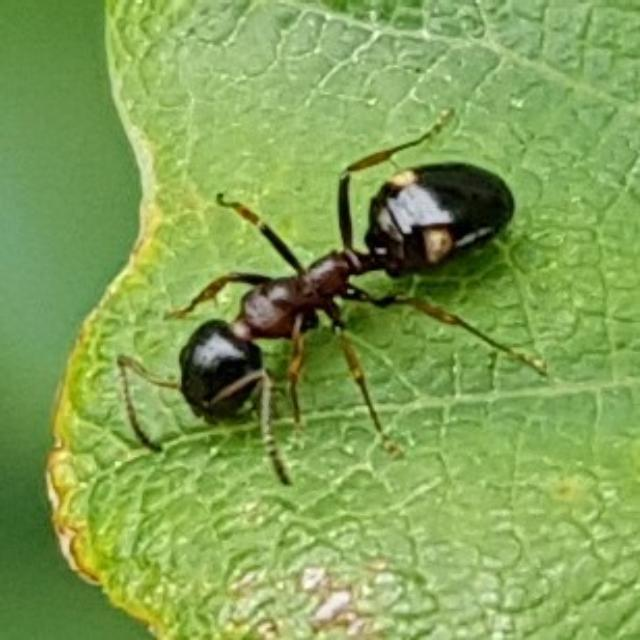Dolichoderus: (124, 143, 552, 454)
